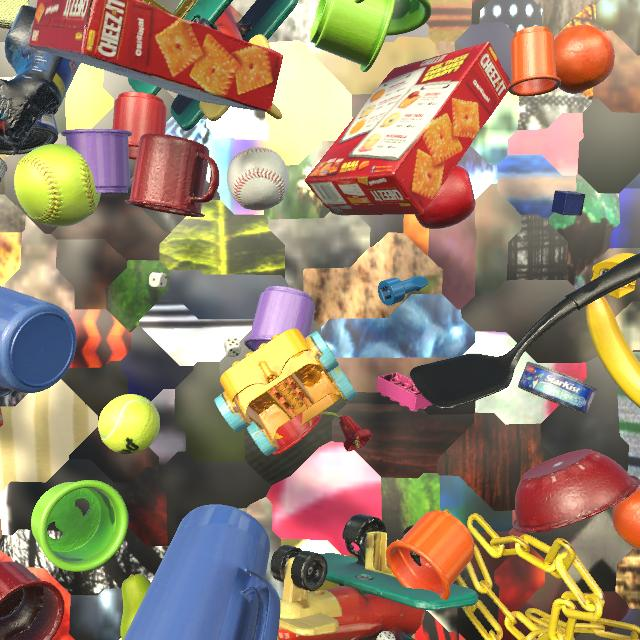ycb_003_cracker_box: (305, 41, 511, 215), (29, 0, 283, 112)
ycb_007_tuna_fish_can: (518, 362, 597, 414), (0, 114, 58, 155)
ycb_009_gelatin_box: (0, 407, 4, 427)
ycb_011_banana: (586, 296, 640, 408)
ycb_013_apple: (415, 165, 476, 229)
ycb_016_pear: (120, 574, 151, 640)
ycb_017_orange: (554, 25, 615, 94), (612, 488, 640, 550)
